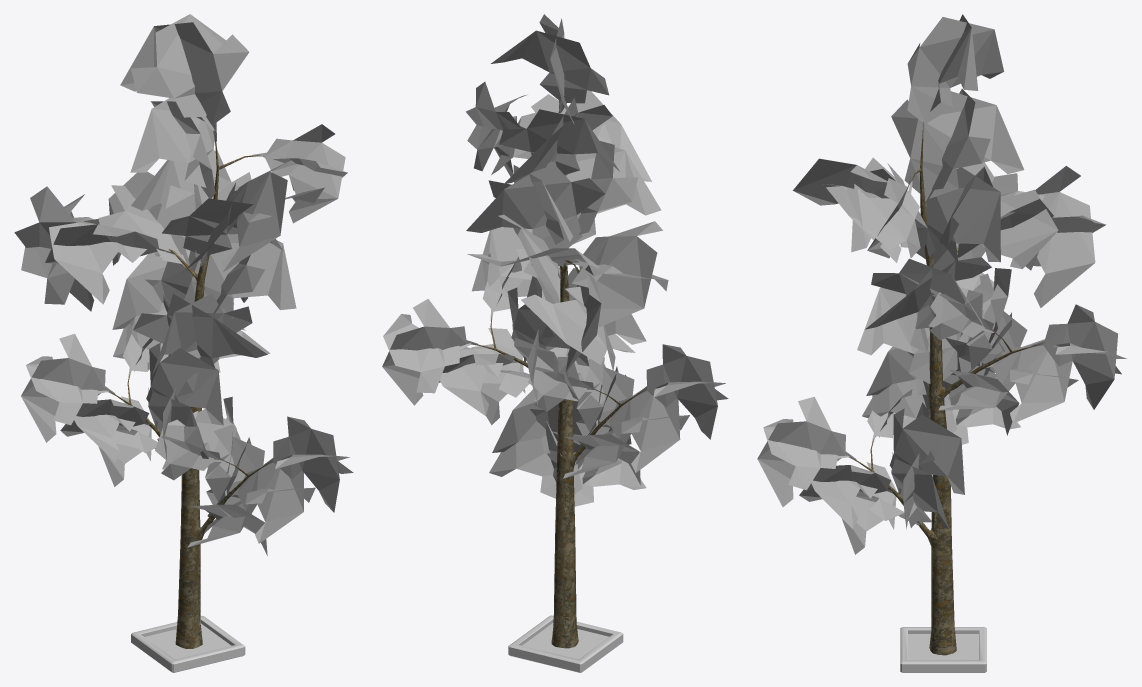
Rendered from c4_tree.fbx.
The picture shows the model from 3 angles, left to right: view 1: azimuth 30°, elevation 25°; view 2: azimuth 150°, elevation 25°; view 3: azimuth 270°, elevation 25°; orthographic projection. The views are drawn at different scales.
Visible parts, largest first — view 1: Mesh; view 2: Mesh; view 3: Mesh.
Part boxes in pixels (x1,y1,x2,y2): Mesh: (14, 14, 353, 672); Mesh: (382, 14, 728, 672); Mesh: (757, 14, 1126, 672).
Bounding box in the file's own units: 548 × 1139 × 597.
